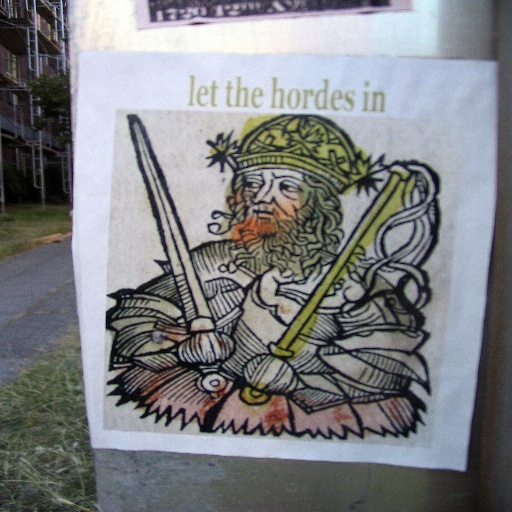hand: (238, 353, 295, 397), (174, 329, 232, 367)
